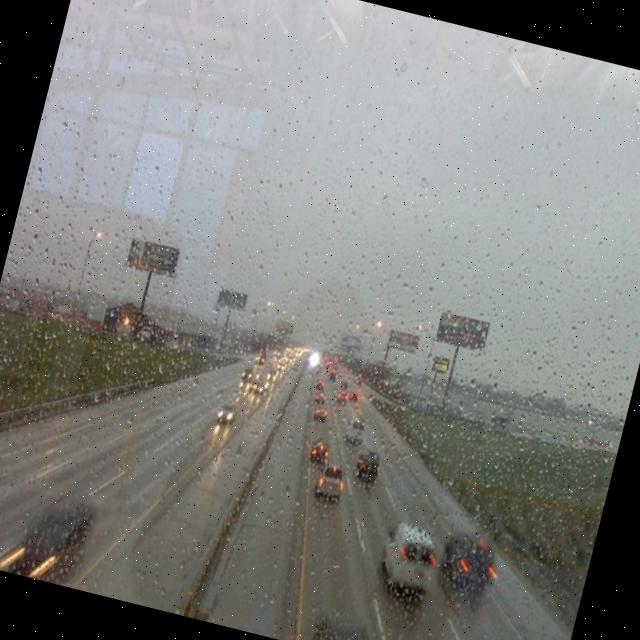car: (5, 490, 92, 584), (374, 516, 444, 594), (434, 528, 502, 596), (313, 462, 347, 504), (352, 446, 383, 484), (340, 414, 368, 444), (305, 435, 328, 463), (212, 400, 235, 426), (249, 376, 266, 399), (312, 402, 328, 419), (240, 367, 253, 382)
